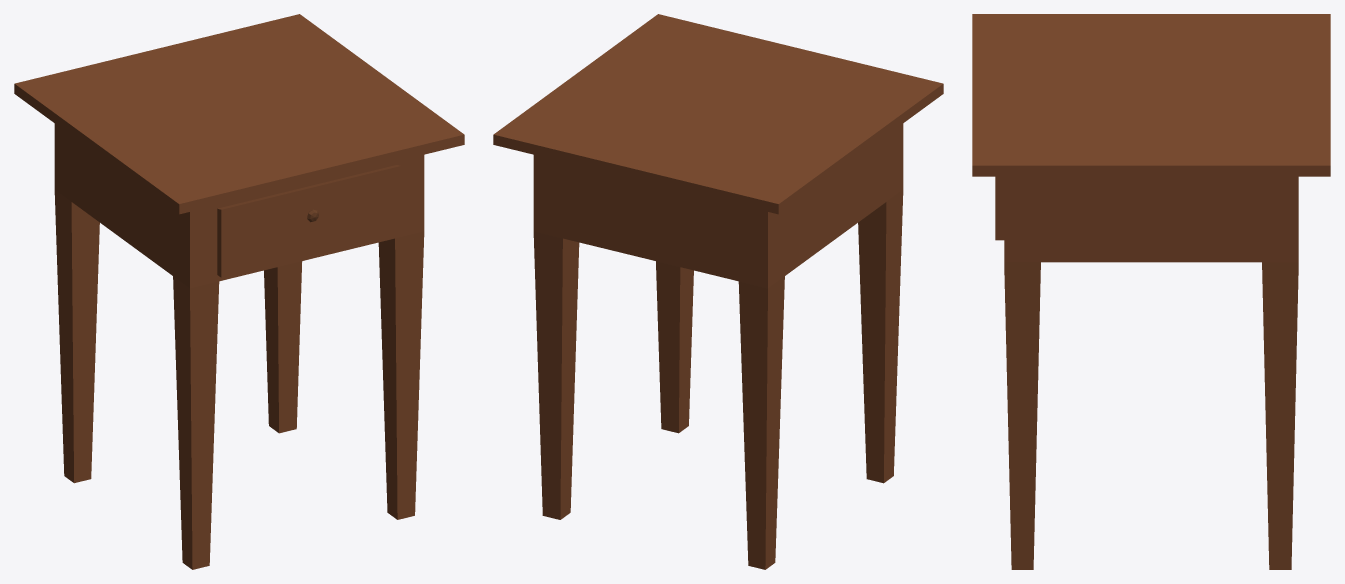
Rendered from tableenddrawer01.gltf.
The picture shows the model from 3 angles, left to right: view 1: azimuth 30°, elevation 25°; view 2: azimuth 150°, elevation 25°; view 3: azimuth 270°, elevation 25°; orthographic projection. The views are drawn at different scales.
Visible parts, largest first — view 1: Cube.001; view 2: Cube.001; view 3: Cube.001.
Part boxes in pixels (bbox=[...]): Cube.001: bbox=[14, 14, 464, 569]; Cube.001: bbox=[493, 14, 943, 569]; Cube.001: bbox=[972, 14, 1330, 569].
Size of the model in its own units: 0.5604 by 0.7259 by 0.5604.
Materials: 1 (1 with a texture image).
